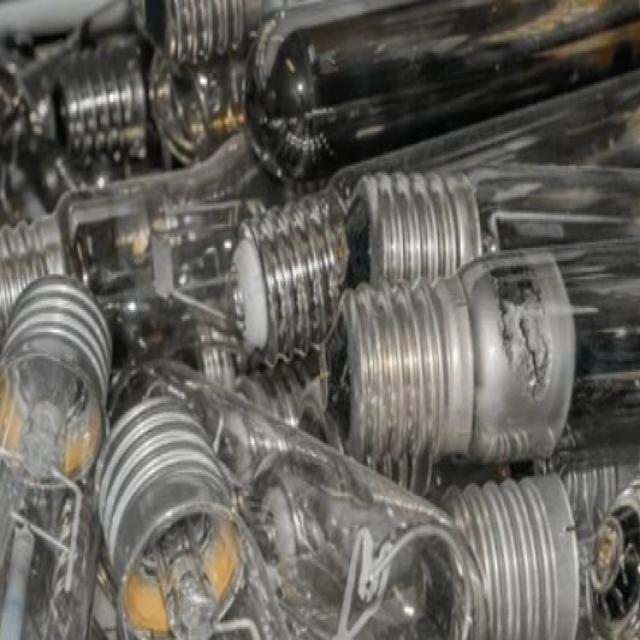electronic: (0, 0, 639, 638), (338, 245, 577, 492), (94, 392, 295, 638), (0, 272, 113, 487), (583, 463, 639, 638)
